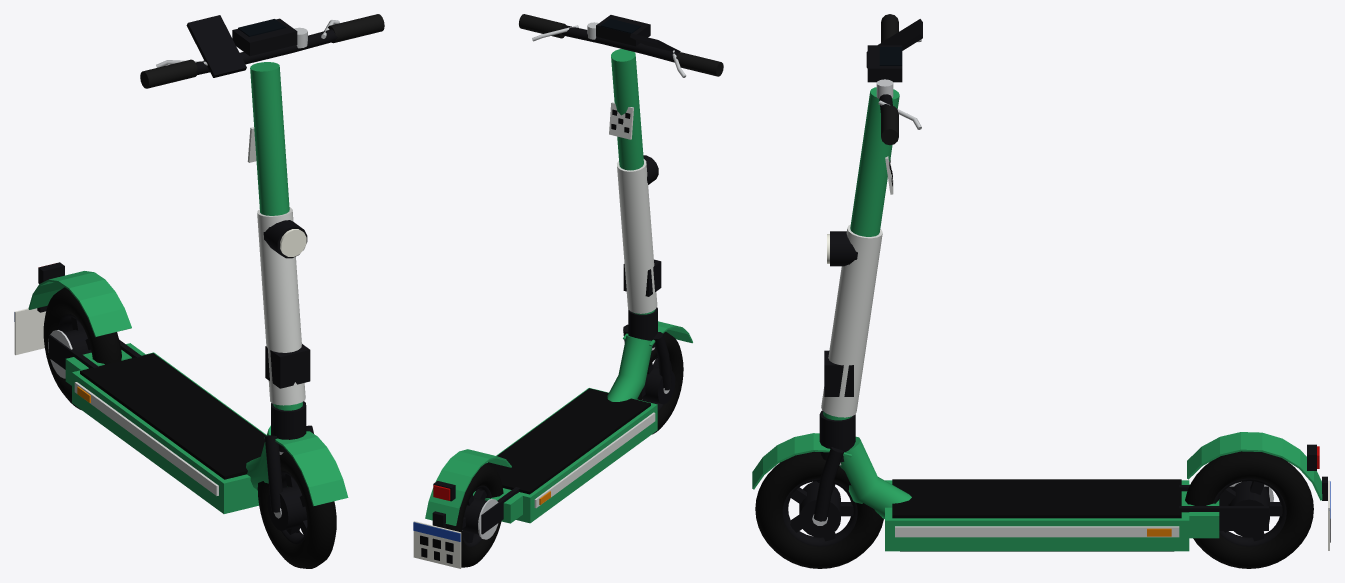
The model's file is escooter.glb.
The picture shows the model from 3 angles, left to right: view 1: azimuth 30°, elevation 25°; view 2: azimuth 150°, elevation 25°; view 3: azimuth 270°, elevation 25°; orthographic projection. The views are drawn at different scales.
Parts seen in each view (by area): view 1: frame, fork, wheel_front, wheel_rear, light_front; view 2: frame, fork, wheel_rear, wheel_front; view 3: frame, fork, wheel_rear, wheel_front, light_front.
Part boxes in pixels (x1=…): frame: x1=14, y1=271, x2=306, y2=513; fork: x1=140, y1=14, x2=384, y2=512; wheel_front: x1=257, y1=452, x2=336, y2=568; wheel_rear: x1=43, y1=287, x2=121, y2=409; light_front: x1=263, y1=220, x2=307, y2=258; frame: x1=413, y1=307, x2=657, y2=568; fork: x1=519, y1=14, x2=723, y2=390; wheel_rear: x1=446, y1=463, x2=503, y2=567; wheel_front: x1=637, y1=331, x2=683, y2=434; frame: x1=819, y1=410, x2=1330, y2=551; fork: x1=752, y1=14, x2=922, y2=521; wheel_rear: x1=1185, y1=451, x2=1313, y2=568; wheel_front: x1=755, y1=451, x2=883, y2=568; light_front: x1=827, y1=231, x2=857, y2=266.
Size of the model in its own units: 0.546 by 1.15 by 1.16.
